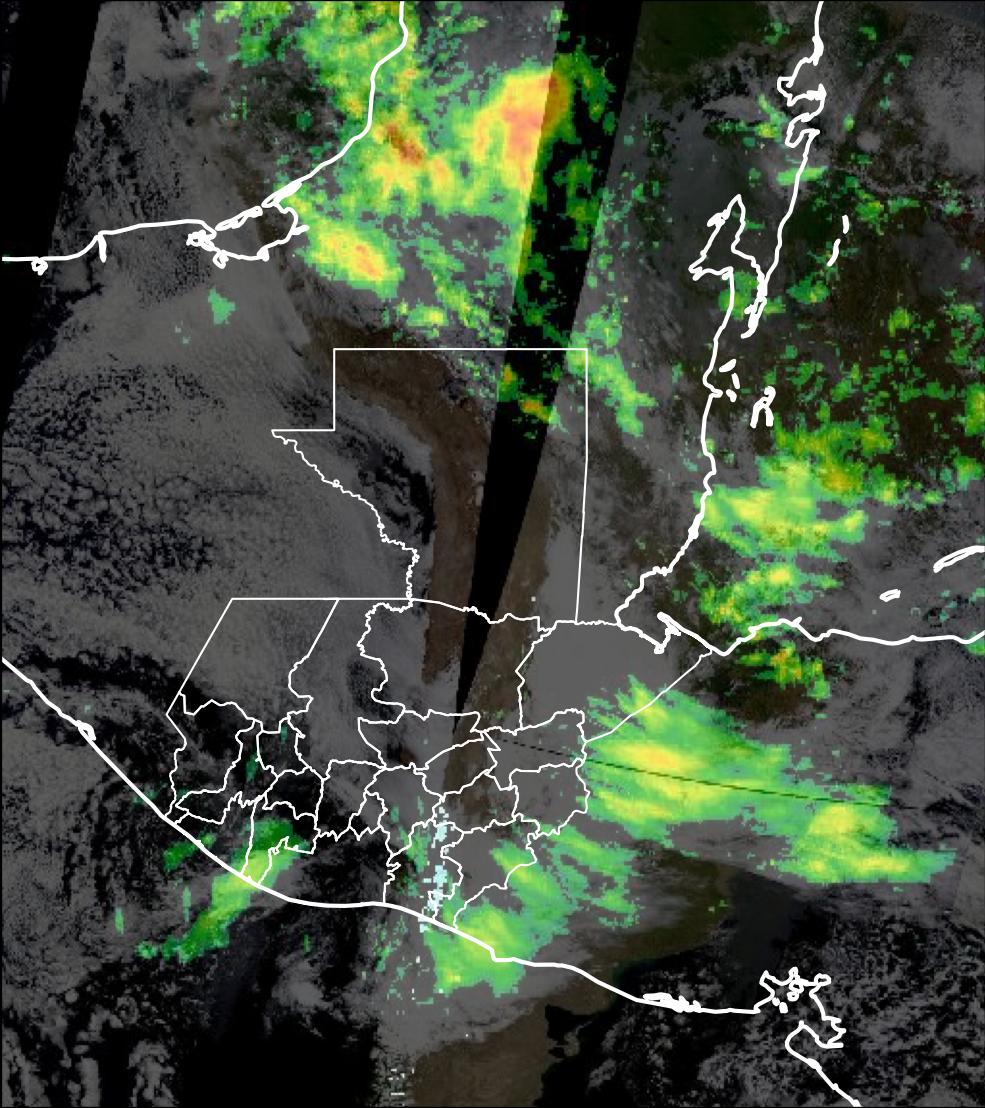precipitacion: (450, 81, 575, 206)
